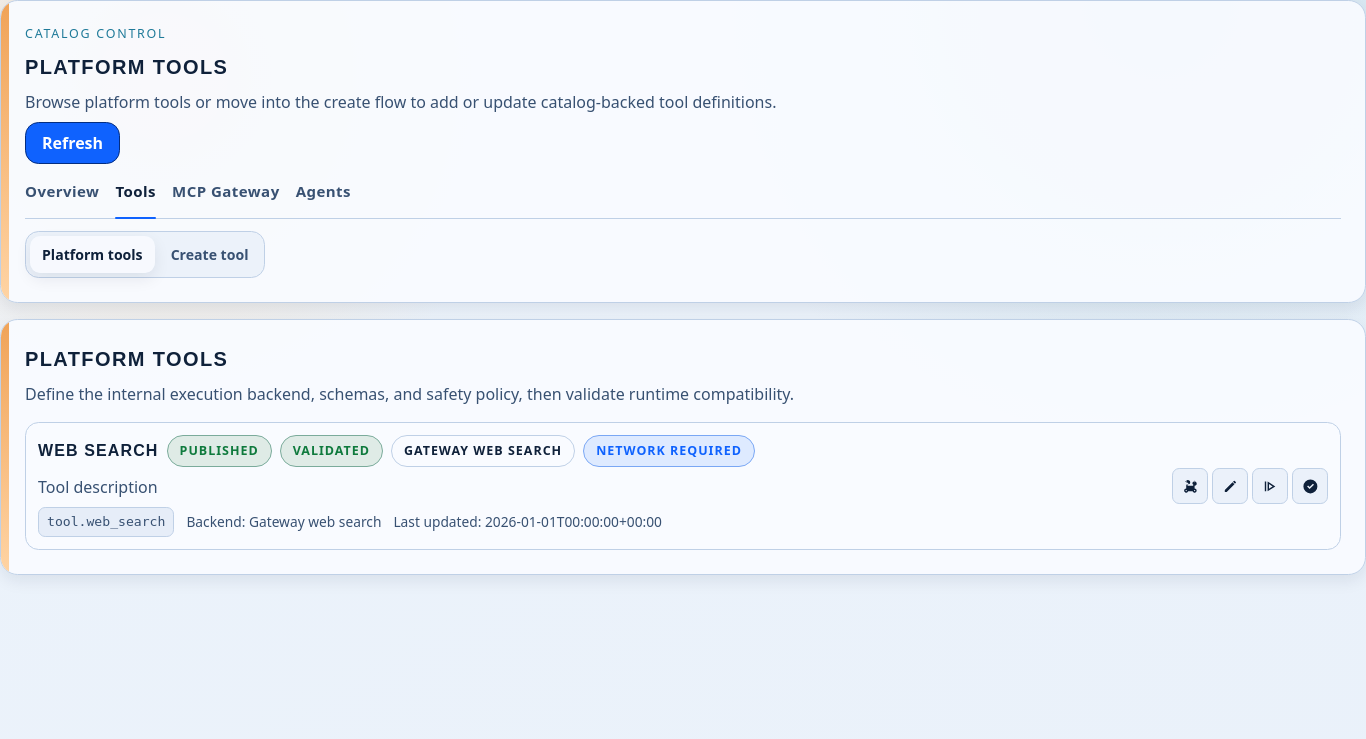
CatalogControlPage › opens the edit flow from the tools directory
Click the button named "Edit Web search". click: (1230, 486)
box: [1212, 468, 1248, 504]
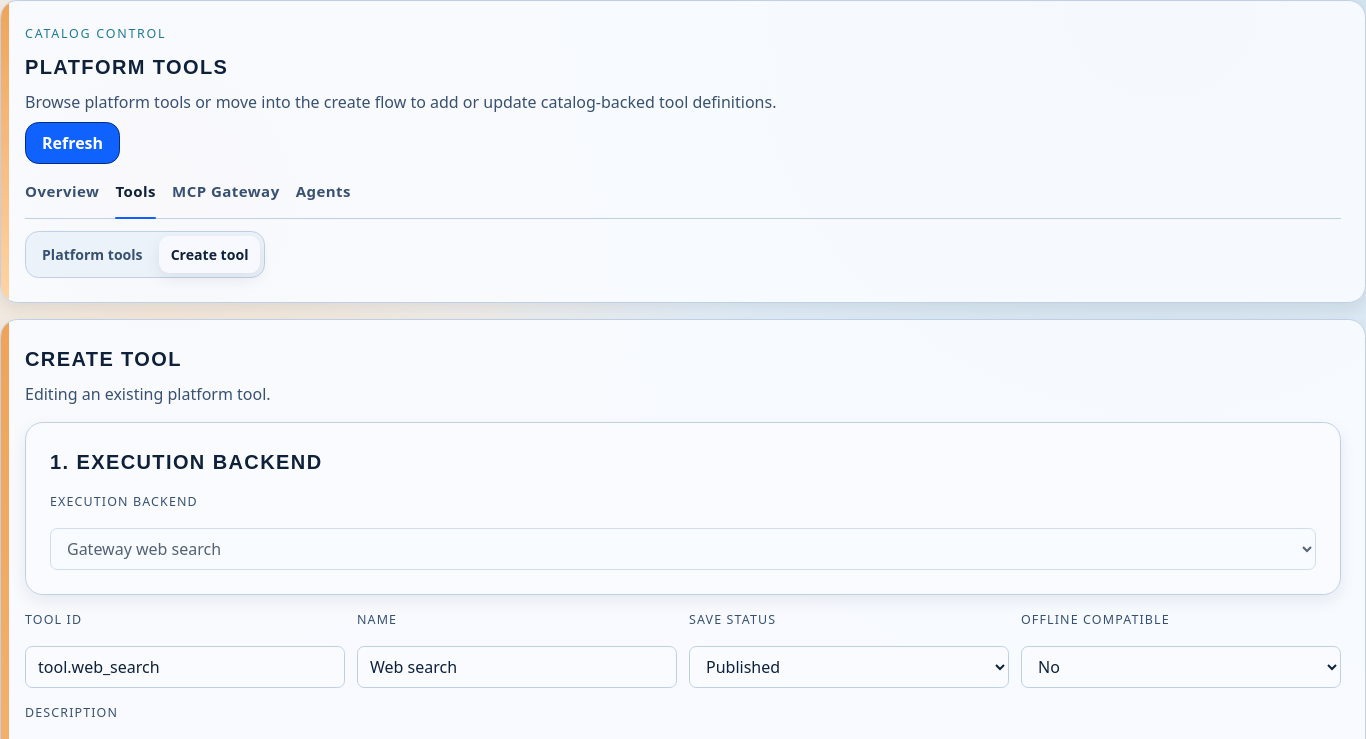
Result: the heading "Create tool" is shown at [25, 348, 182, 370]
Result: the field labelled "Tool ID" holds "tool.web_search" at [25, 646, 345, 688]
